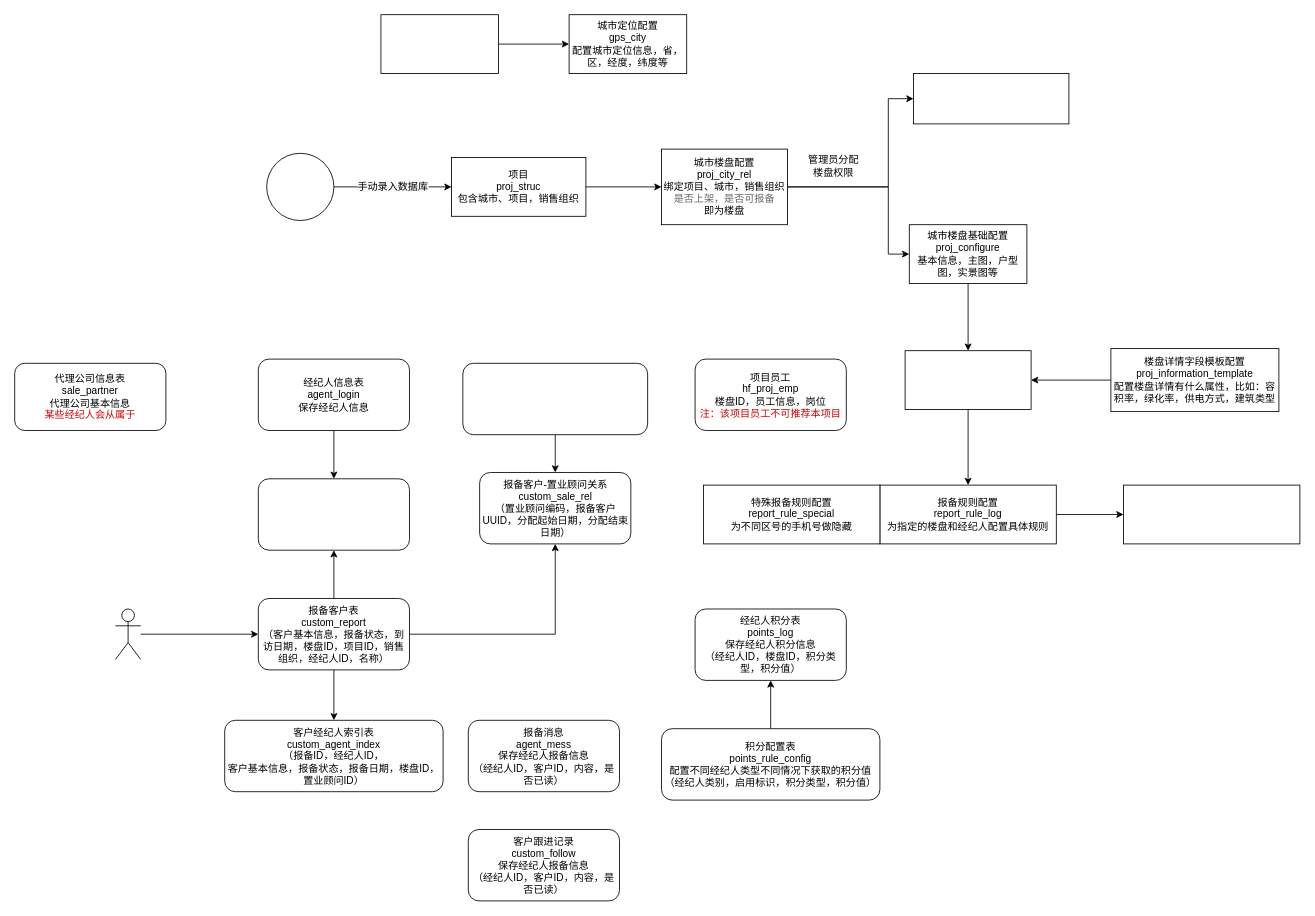
This 1315x916 diagram has some shape labels left out. Here are the shapes that lost their labels. From the top down, the centre of each, then its label:
At pixel 439 44: "城市 后台管理员设置".
At pixel 991 98: "楼盘销售组织关系 proj_sale_org_rel houses_uuid（cityRel.getId()） sale_org".
At pixel 300 186: "营销系统".
At pixel 555 398: "置业顾问信息表 sale_main 保存置业顾问信息 楼盘ID，员工信息 注：置业顾问不能报备本项目客户".
At pixel 967 380: "楼盘详情配置 proj_information_content 根据详情的模板，配置具体属性值".
At pixel 333 514: "经纪人客户关系表 custom_agent_rel （经纪人ID，客户ID）".
At pixel 1211 514: "报备规则配置日志 report_rule_log 查看每个配置版本的记录".
At pixel 128 633: "经纪人报备".
